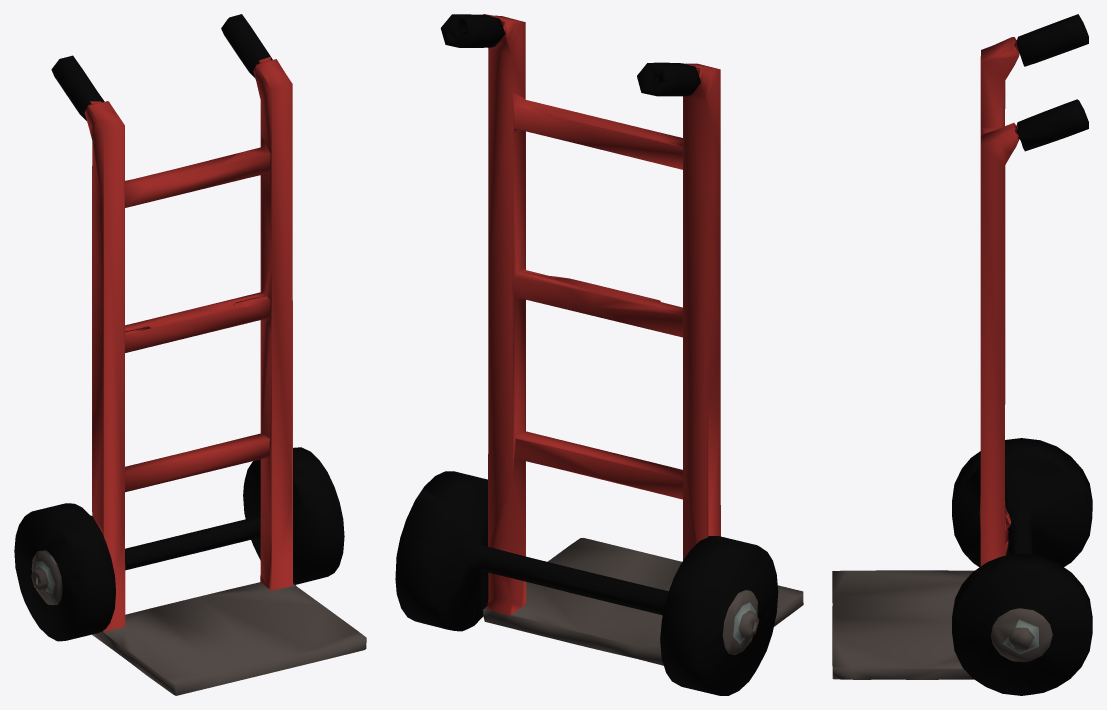
File: SM_PruebaHunyuan1.fbx
The picture shows the model from 3 angles, left to right: view 1: azimuth 30°, elevation 25°; view 2: azimuth 150°, elevation 25°; view 3: azimuth 270°, elevation 25°; orthographic projection. The views are drawn at different scales.
Parts seen in each view (by area): view 1: SM_PruebaHunyuan1; view 2: SM_PruebaHunyuan1; view 3: SM_PruebaHunyuan1.
Boxes of the visible parts, <box> form: SM_PruebaHunyuan1: <box>14,14,366,695</box>; SM_PruebaHunyuan1: <box>395,14,803,695</box>; SM_PruebaHunyuan1: <box>832,14,1092,695</box>.
Size of the model in its own units: 0.5453 by 1 by 0.414.
1 material, 1 textured.
